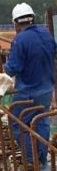hard-hat: (11, 1, 34, 22)
ppe-suit: (0, 23, 56, 165)
